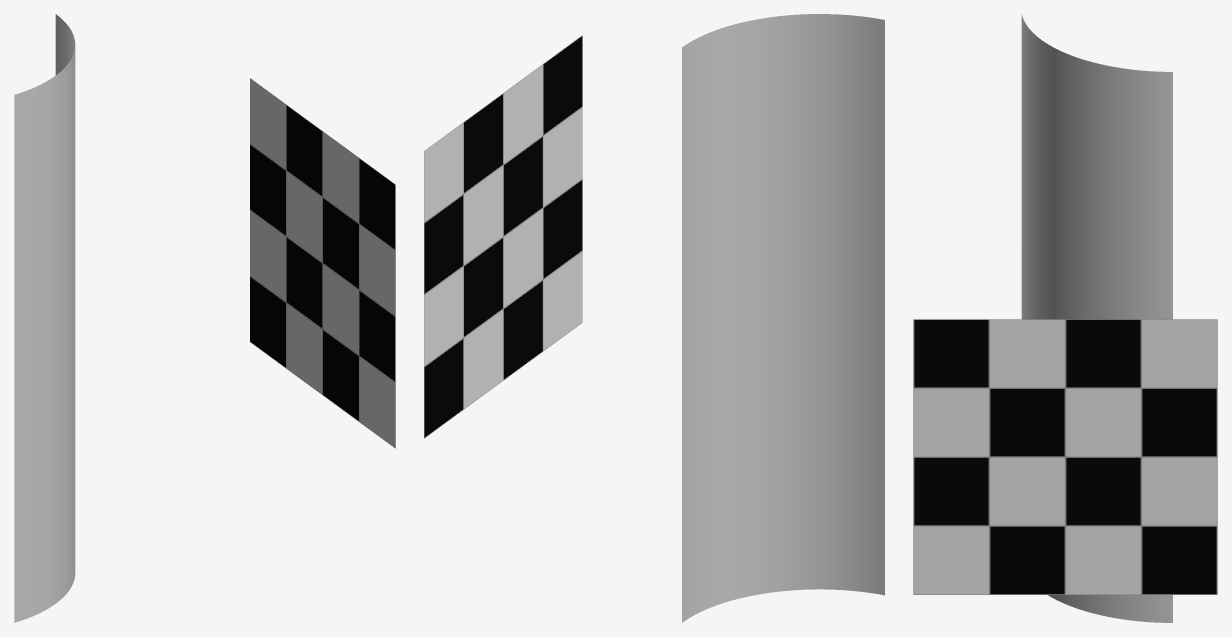
The model's file is mirrors1.glb.
3 views of the same model, side by side, from view 1: azimuth 30°, elevation 25°; view 2: azimuth 150°, elevation 25°; view 3: azimuth 270°, elevation 25° (orthographic). The views are drawn at different scales.
Visible parts, largest first — view 1: Plane, Cylinder; view 2: Cylinder, Plane; view 3: Plane, Cylinder.
Boxes of the visible parts, x1=… form: Plane: x1=250, y1=78, x2=395, y2=448; Cylinder: x1=14, y1=14, x2=75, y2=622; Cylinder: x1=682, y1=14, x2=884, y2=622; Plane: x1=424, y1=35, x2=582, y2=438; Plane: x1=913, y1=319, x2=1217, y2=594; Cylinder: x1=1021, y1=14, x2=1172, y2=622.
Size of the model in its own units: 2.61 by 4 by 2.
Materials: 2 (1 with a texture image).
